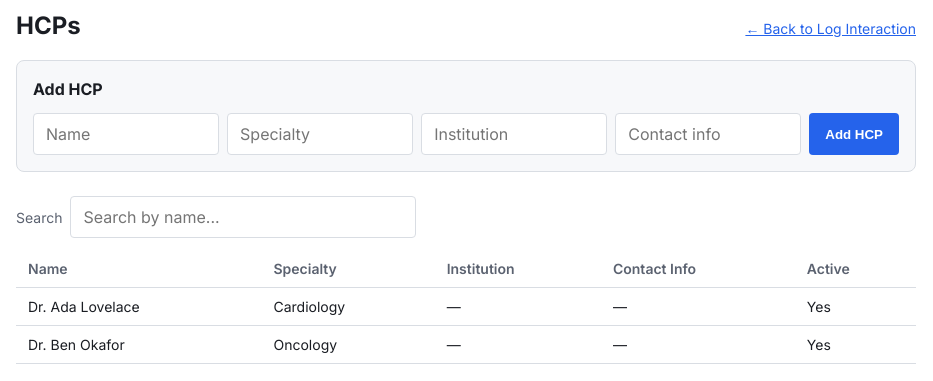
Test case: HcpAdminPage › filters the table by search
The width and height of the screenshot is (933, 381).
Expected: the text "Dr. Ada Lovelace" is shown, [16,288,262,326]
Type "Ben" into the field labelled "Search".
click(244, 217); type("Ben")  # box [70,196,416,238]
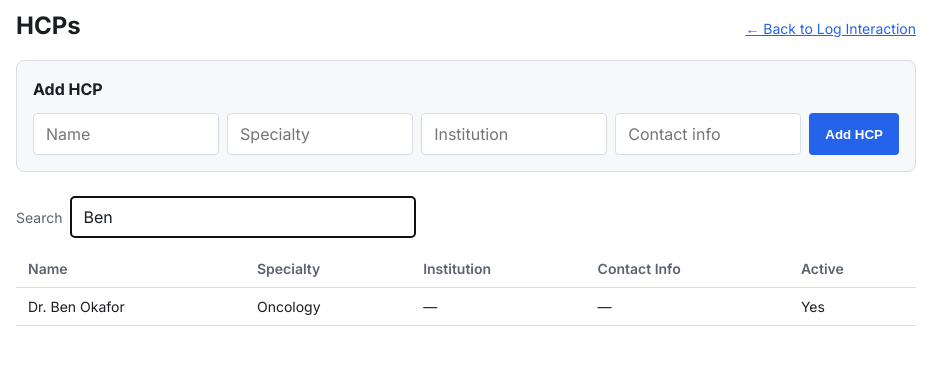
Expected: the text "Dr. Ben Okafor" is shown, [16,288,245,326]
Now the text "Dr. Ada Lovelace" is gone
